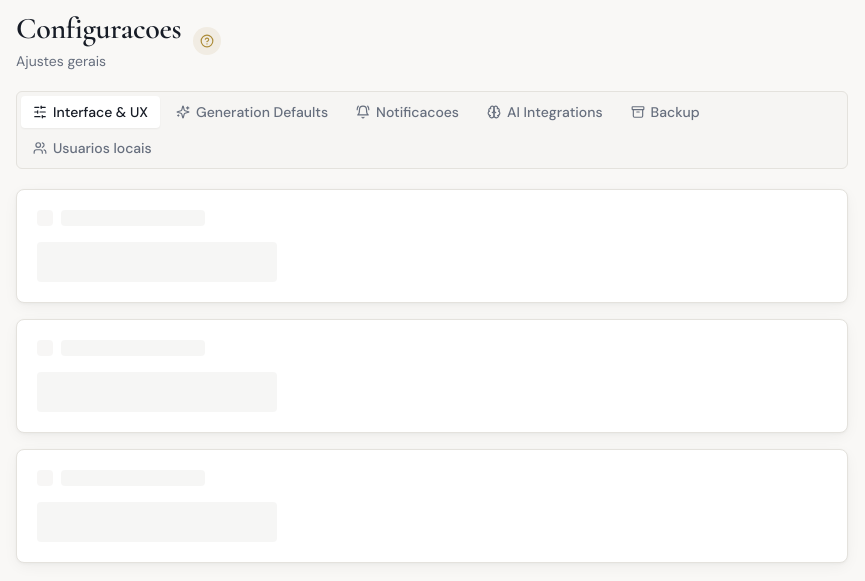
Test: Settings › shows local user management section for admin
The image size is (865, 581).
Click the tab "Usuarios locais" at (92, 148), box [21,132,164,164]
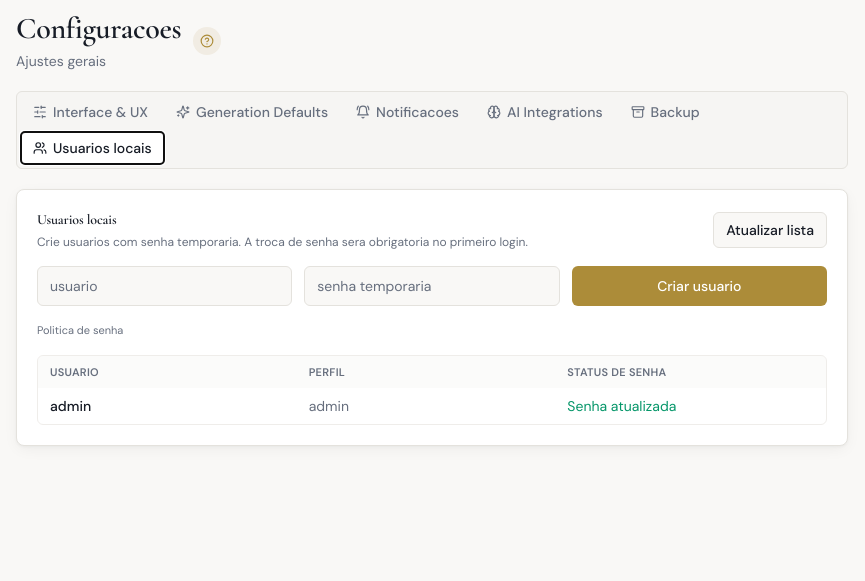
Result: the heading "Usuarios locais" is shown at [37,211,116,228]
Result: the 1st text "admin" is shown at [50,397,91,415]
